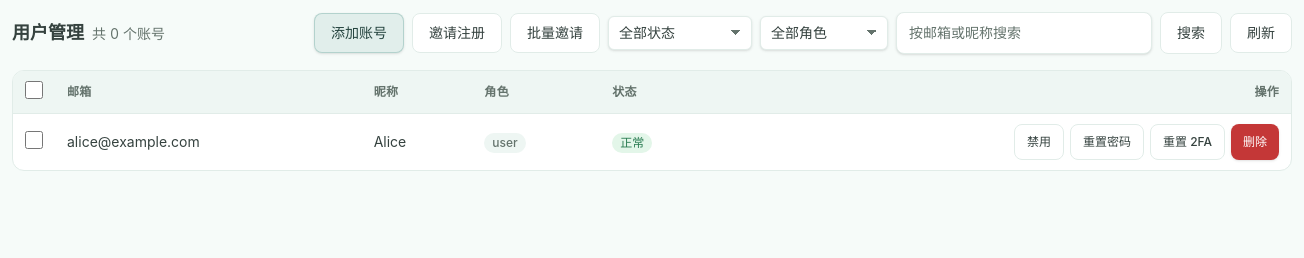
Test case: AdminUsersPanel › 批量启用只在被点击的按钮上显示处理中
Expected: the text "alice@example.com" is shown, [55,114,362,170]
Step 1. Click the checkbox named "选择 alice@example.com" → click(34, 140), box [25,130,43,148]
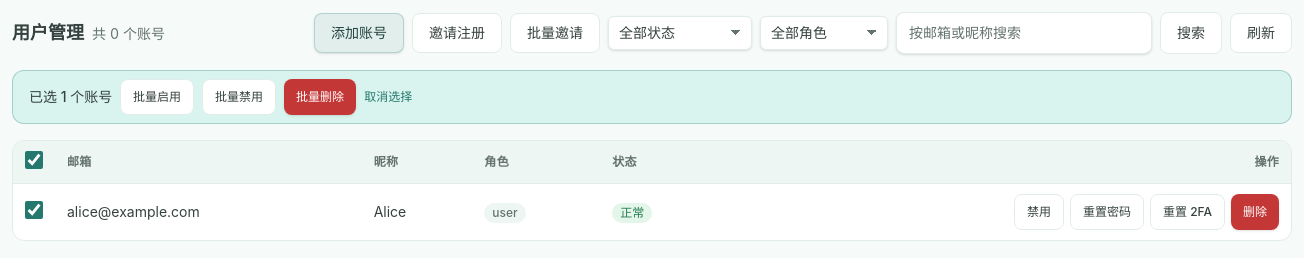
Step 2. Click the button "批量启用" → click(157, 97), box [120,79,194,115]
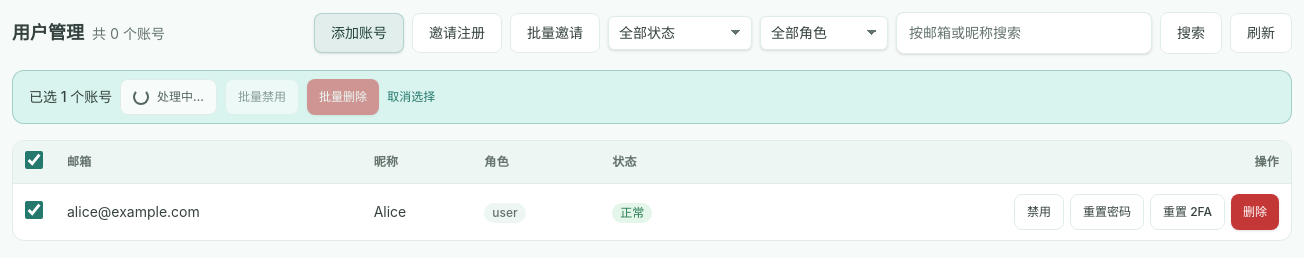
Now the button "批量禁用" is disabled, box [225,79,299,115]
